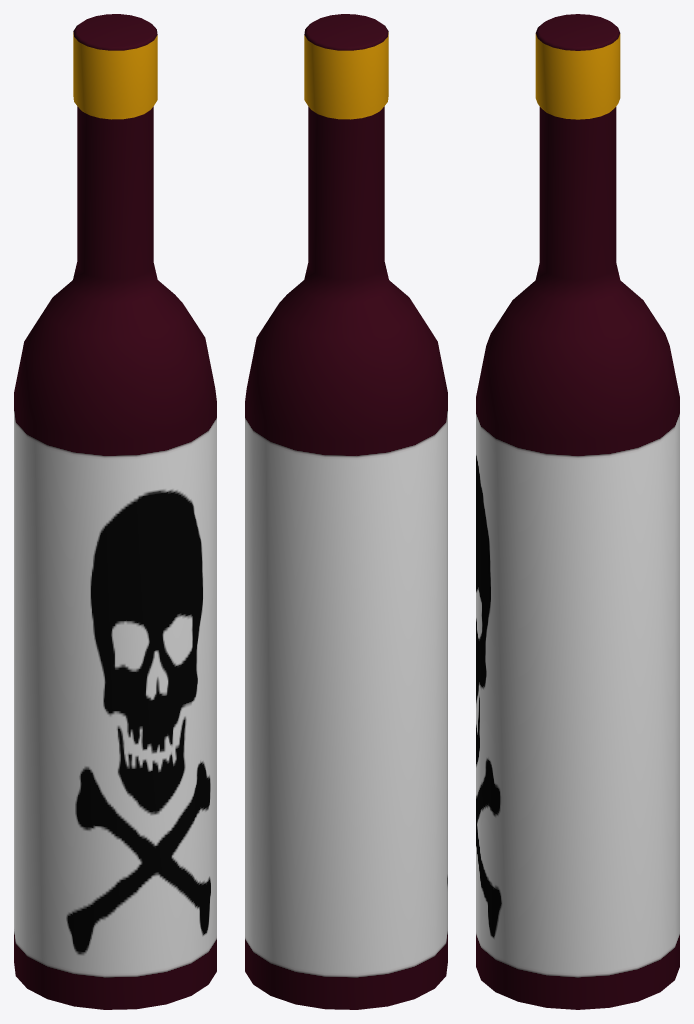
File: wain.fbx
3 renders of one model, left to right at view 1: azimuth 30°, elevation 25°; view 2: azimuth 150°, elevation 25°; view 3: azimuth 270°, elevation 25°, orthographic.
Parts seen in each view (by area): view 1: pCylinder1; view 2: pCylinder1; view 3: pCylinder1.
Part boxes in pixels (x1=…): pCylinder1: x1=14, y1=14, x2=216, y2=1009; pCylinder1: x1=245, y1=14, x2=447, y2=1009; pCylinder1: x1=476, y1=14, x2=679, y2=1009.
Size of the model in its own units: 4.34 by 22 by 4.34.
